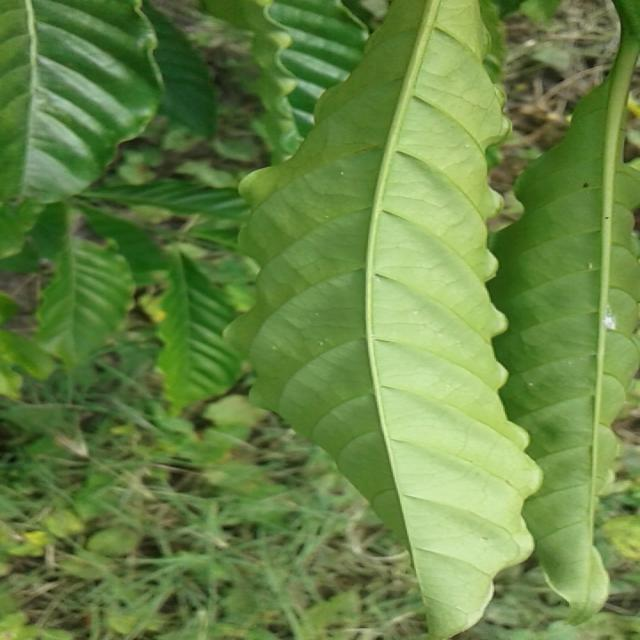Sanas: (236, 0, 544, 640)
